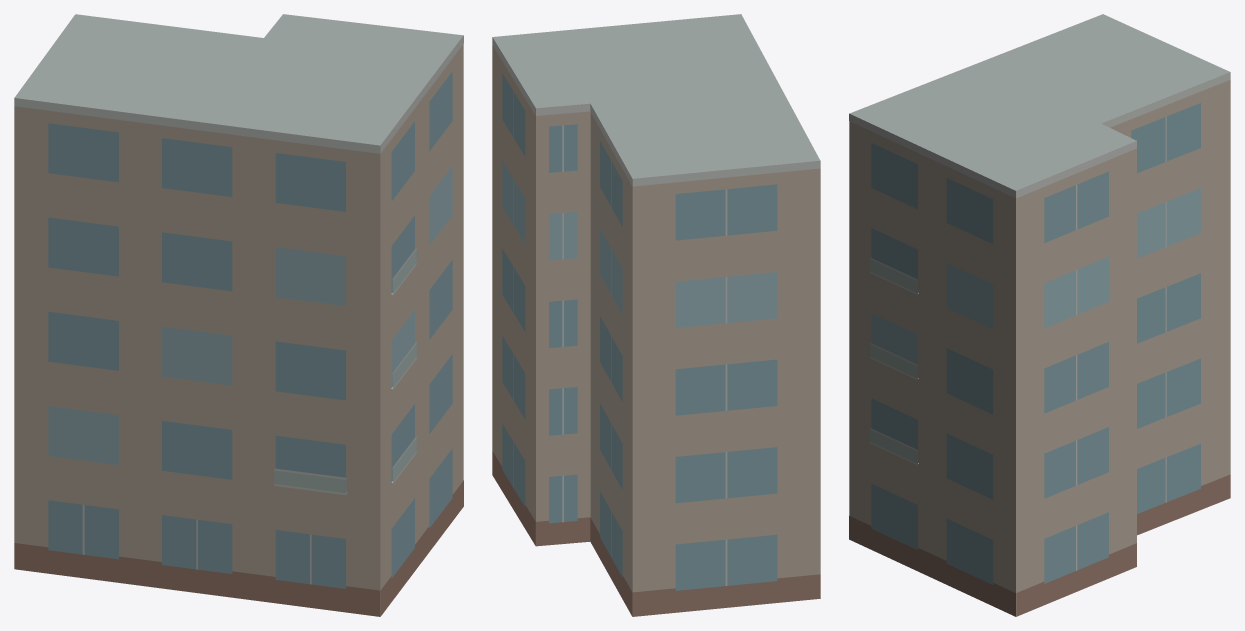
File: survey-upis-32977456.glb
The picture shows the model from 3 angles, left to right: view 1: azimuth 30°, elevation 25°; view 2: azimuth 150°, elevation 25°; view 3: azimuth 270°, elevation 25°; orthographic projection. The views are drawn at different scales.
Parts seen in each view (by area): view 1: survey-upis-32977456.tmp; view 2: survey-upis-32977456.tmp; view 3: survey-upis-32977456.tmp.
Part boxes in pixels (left/top/right/bottom): survey-upis-32977456.tmp: left=14, top=14, right=463, bottom=616; survey-upis-32977456.tmp: left=492, top=14, right=820, bottom=616; survey-upis-32977456.tmp: left=849, top=14, right=1230, bottom=616.
Bounding box in the file's own units: 12.3 × 13.8 × 11.21.
